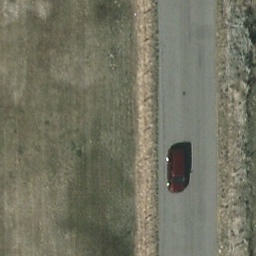car: (167, 146, 187, 196)
